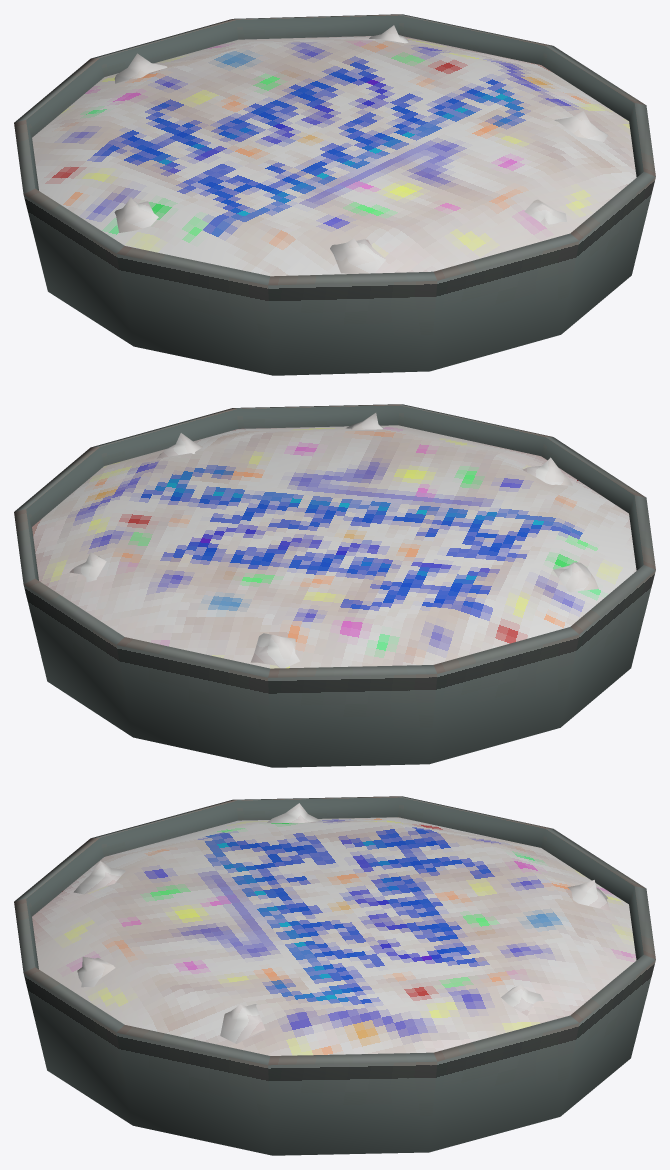
Rendered from CakePan_Icing.fbx.
The picture shows the model from 3 angles, top to bottom: view 1: azimuth 30°, elevation 25°; view 2: azimuth 150°, elevation 25°; view 3: azimuth 270°, elevation 25°; orthographic projection.
Visible parts, largest first — view 1: Cake; view 2: Cake; view 3: Cake.
Part boxes in pixels (x1,y1,x2,y2): Cake: [14, 14, 655, 375]; Cake: [14, 404, 655, 767]; Cake: [14, 796, 655, 1155].
Size of the model in its own units: 51.34 by 11.17 by 51.34.
